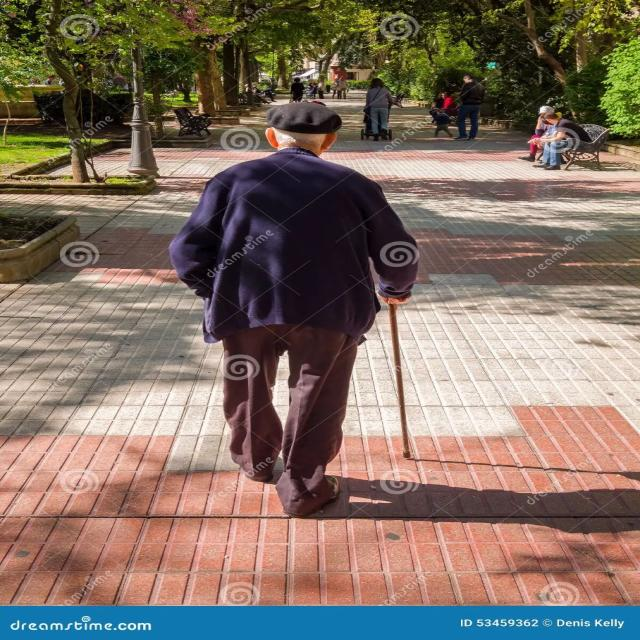idoso em pe: (180, 113, 377, 505)
